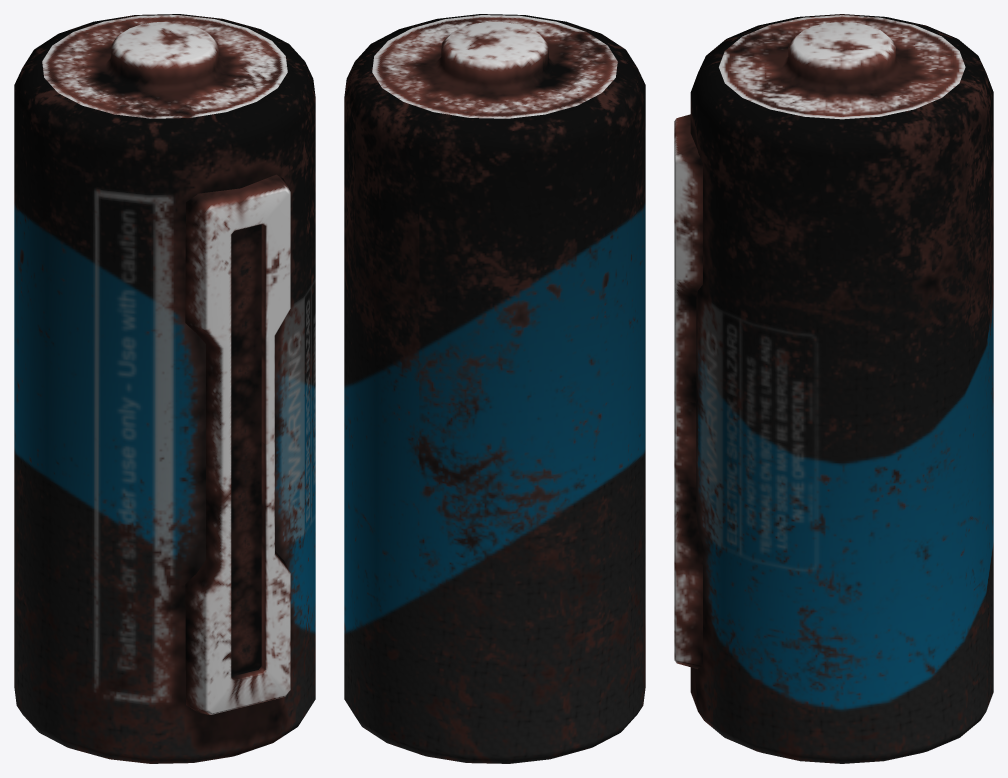
The model's file is Battery.fbx.
The picture shows the model from 3 angles, left to right: view 1: azimuth 30°, elevation 25°; view 2: azimuth 150°, elevation 25°; view 3: azimuth 270°, elevation 25°; orthographic projection.
Parts seen in each view (by area): view 1: Battery; view 2: Battery; view 3: Battery.
Boxes of the visible parts, left/top/right/bottom form: Battery: left=14, top=14, right=315, bottom=763; Battery: left=344, top=14, right=645, bottom=763; Battery: left=674, top=14, right=993, bottom=763.
Size of the model in its own units: 2 by 4.84 by 2.11.
Materials: 1 (1 with a texture image).
